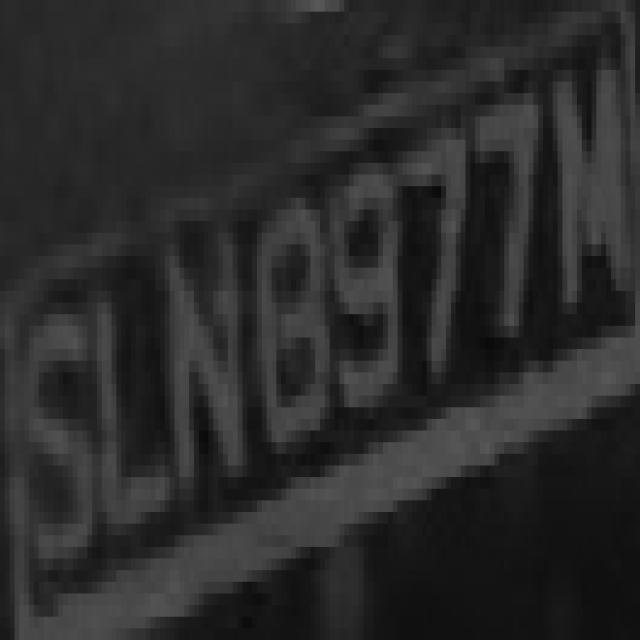7: (388, 116, 485, 454), (460, 70, 548, 384)
8: (237, 163, 325, 500)
9: (310, 140, 402, 466)
L: (92, 221, 170, 559)
M: (533, 70, 635, 361)
N: (160, 186, 257, 512)
S: (5, 279, 87, 605)
